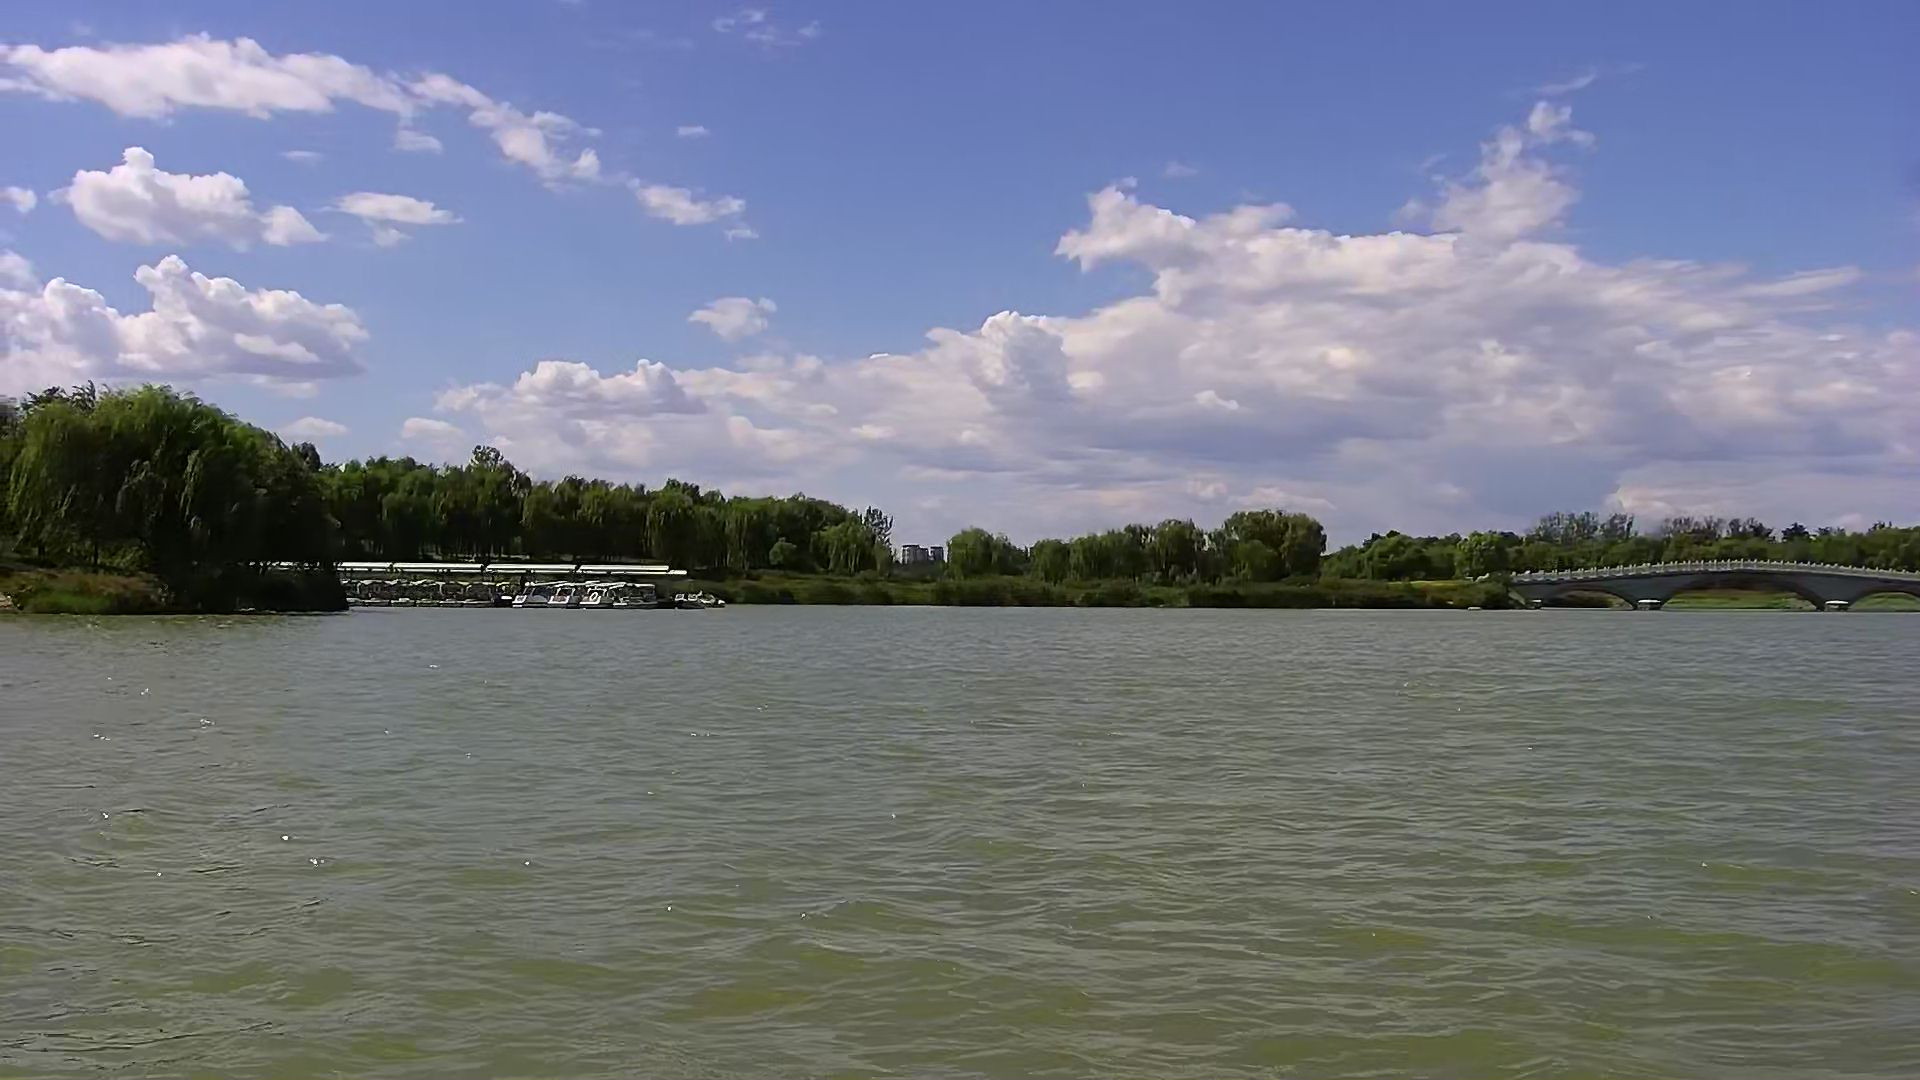bridge: (1501, 556, 1920, 613)
harbor: (339, 555, 719, 608)
